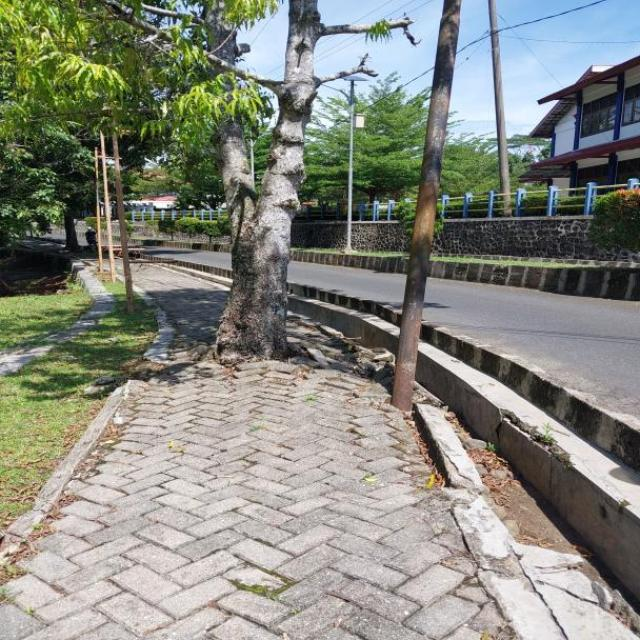tree ahead at: (216, 0, 347, 354)
